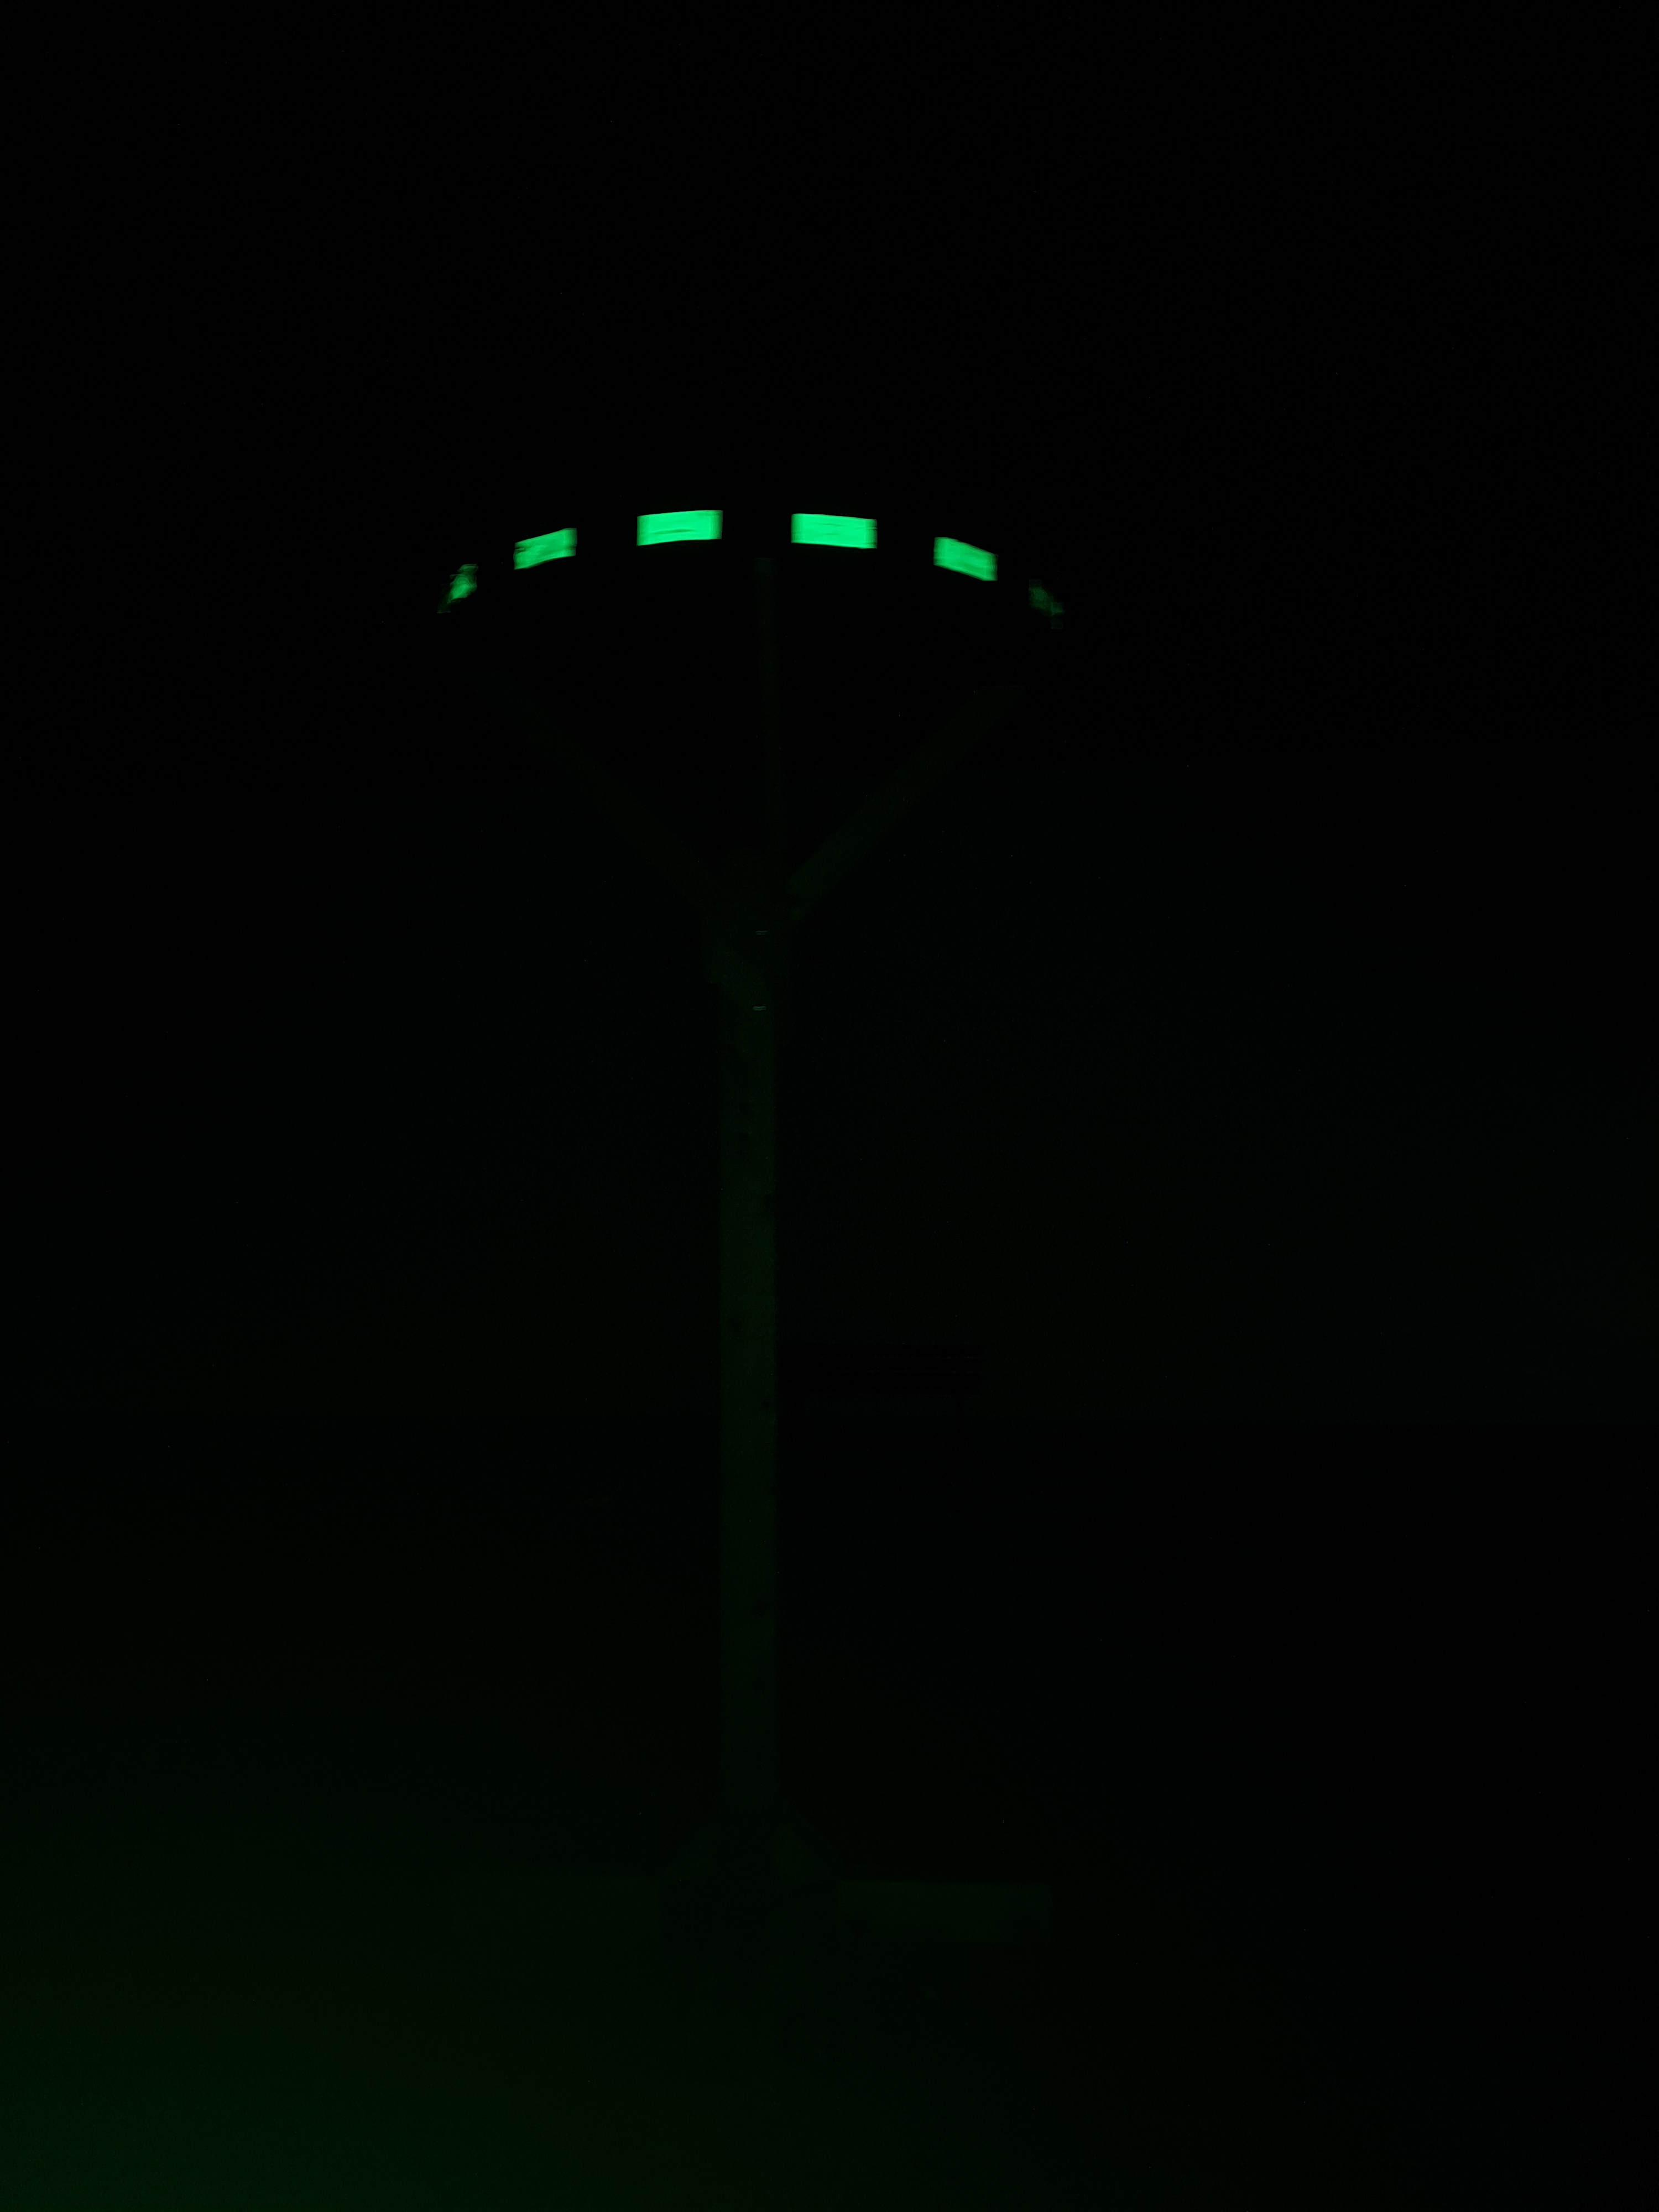hoop: (437, 505, 1070, 624)
